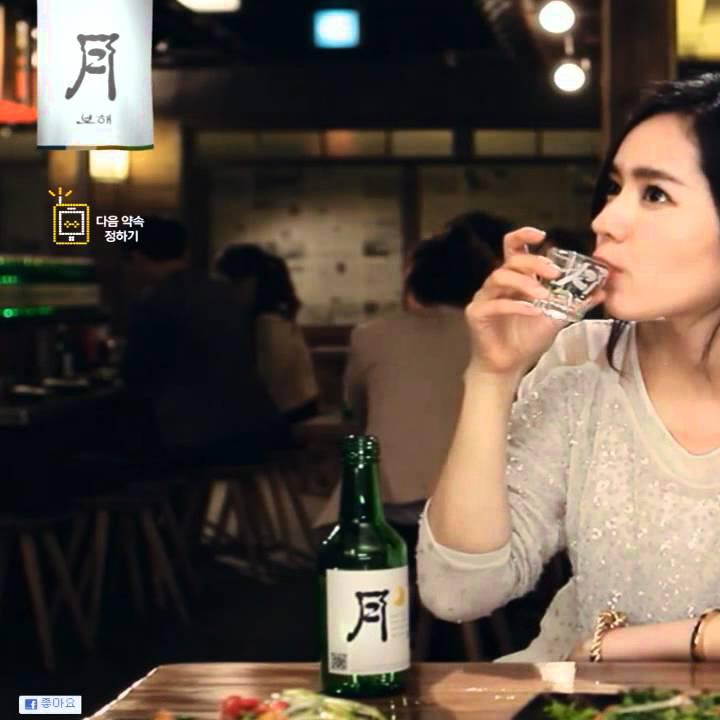soju: (310, 432, 419, 706)
